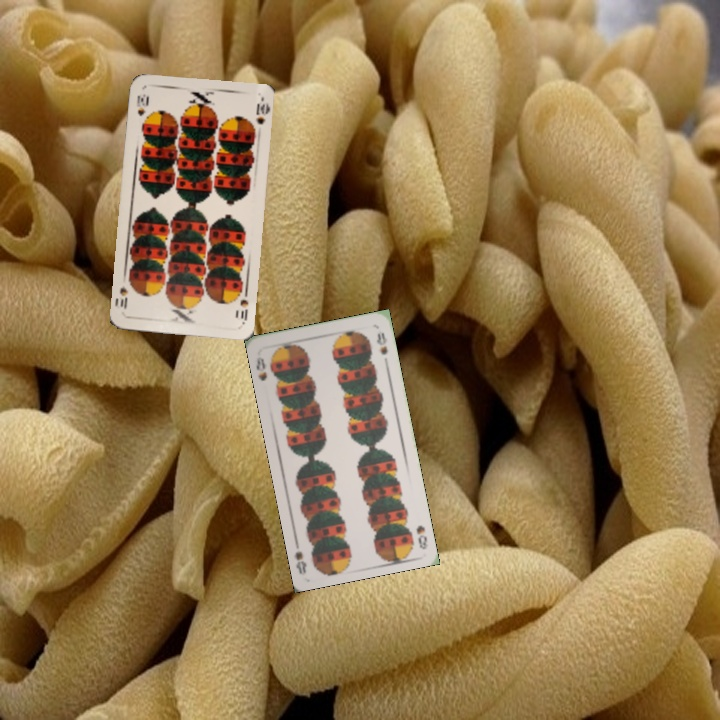S10: (236, 285, 251, 325), (132, 90, 150, 119)
S8: (412, 521, 430, 551), (252, 353, 269, 384)
